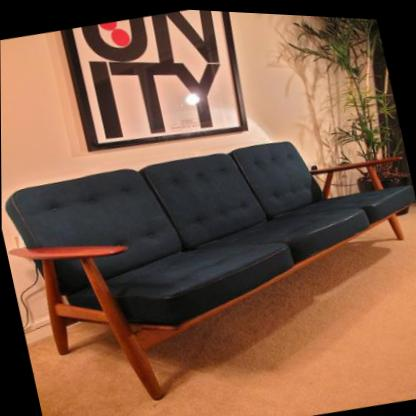Sofa: (1, 101, 416, 416)
